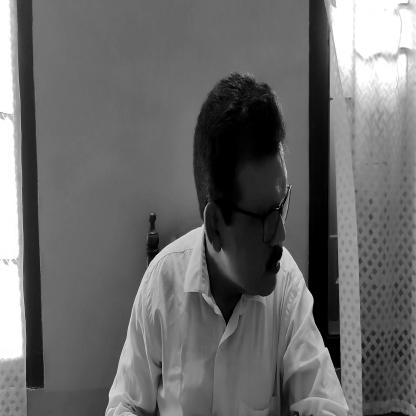Distracted: (196, 87, 290, 298)
